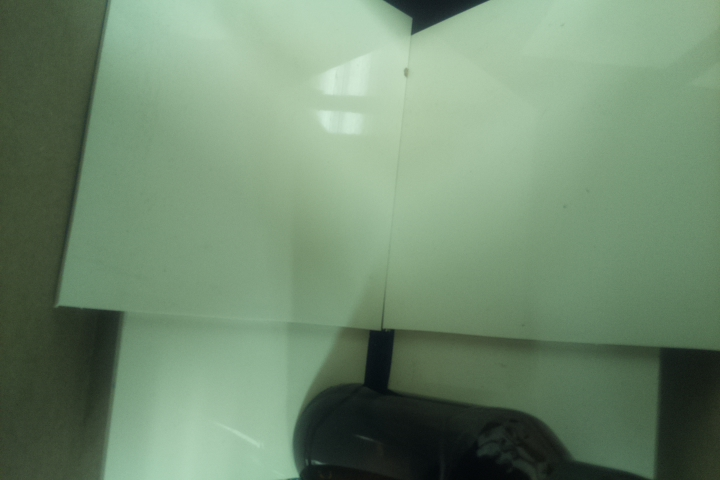makju: (291, 385, 664, 480)
